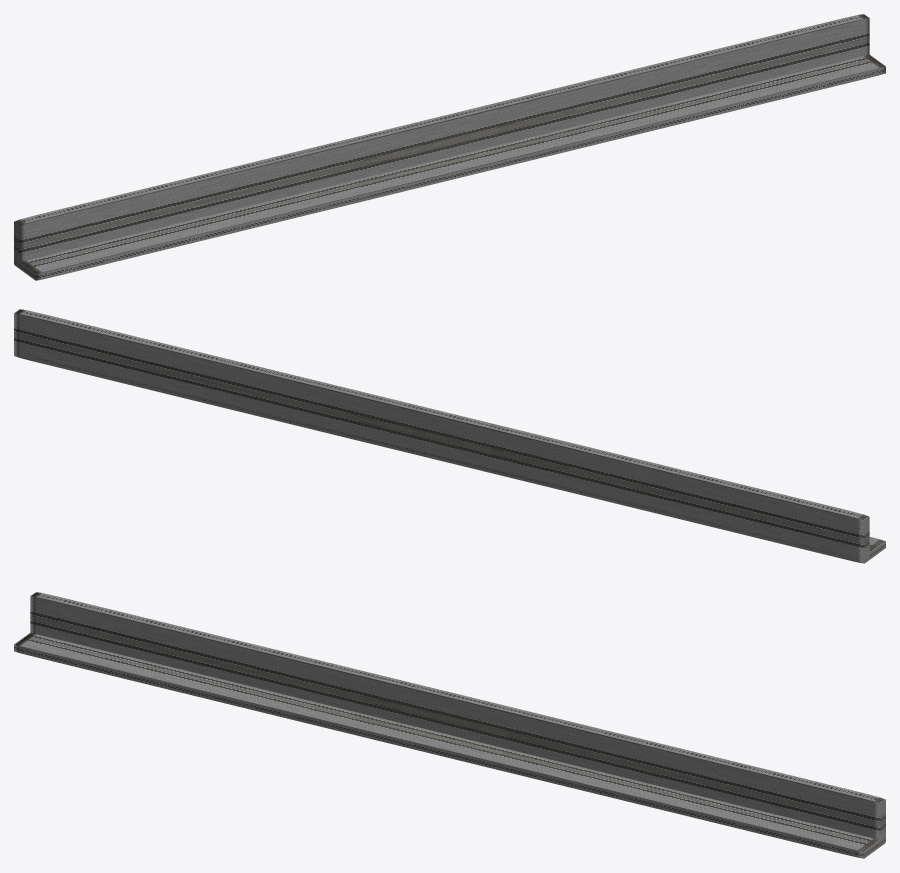
The model's file is platform-trim.glb.
3 renders of one model, top to bottom at view 1: azimuth 30°, elevation 25°; view 2: azimuth 150°, elevation 25°; view 3: azimuth 330°, elevation 25°, orthographic.
Visible parts, largest first — view 1: web, return; view 2: web, return; view 3: web, return.
Boxes of the visible parts, x1,y1,x2,y2 form: web: (14, 14, 869, 267); return: (14, 54, 885, 280); web: (14, 309, 869, 562); return: (14, 355, 885, 563); web: (30, 592, 885, 841); return: (14, 632, 885, 858).
Size of the model in its own units: 1.2 by 0.06 by 0.055.
Materials: 1 (1 with a texture image).
